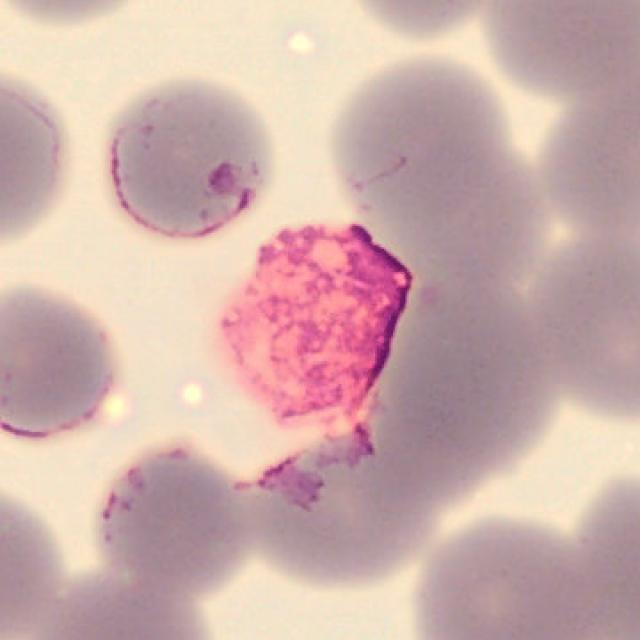Artefato: (217, 224, 414, 460)
